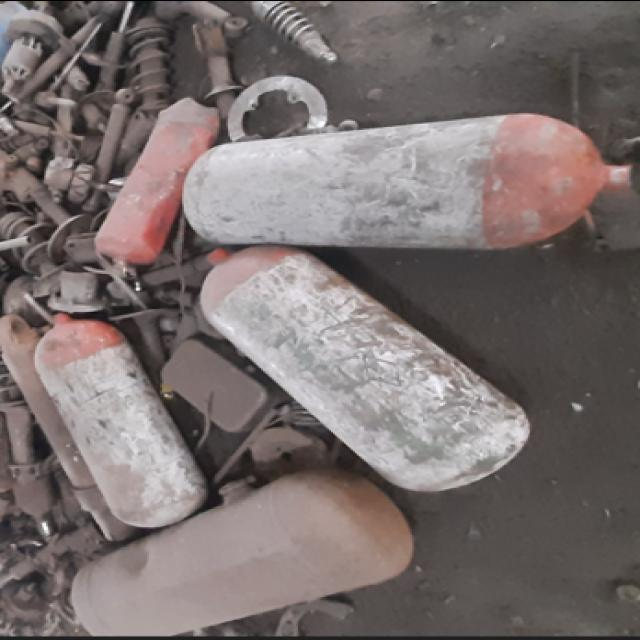cylinder: (199, 244, 530, 491), (181, 112, 633, 248), (33, 312, 208, 527)
shock absorber: (250, 2, 336, 60)
